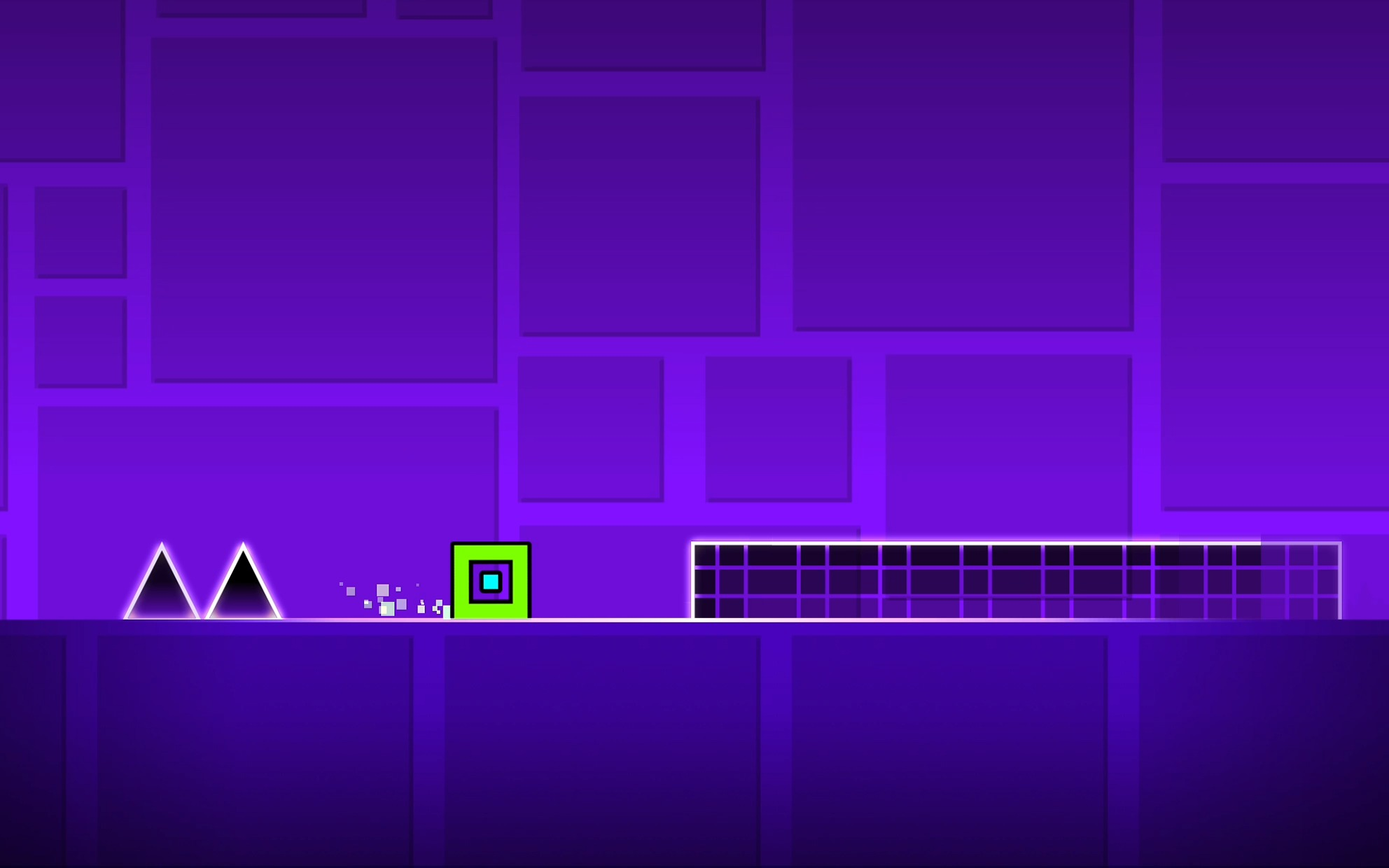Block2: (692, 539, 1345, 625)
Player: (446, 542, 533, 619)
Spike: (204, 542, 281, 619), (124, 543, 200, 619)
